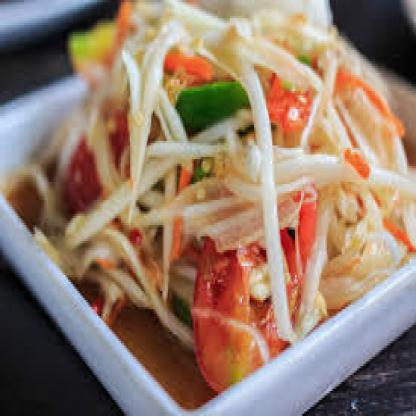Papaya Salad: (0, 0, 409, 414)
